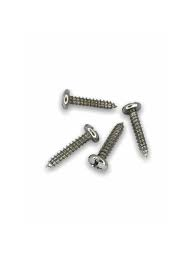TORNILLOS: (39, 71, 162, 187)
